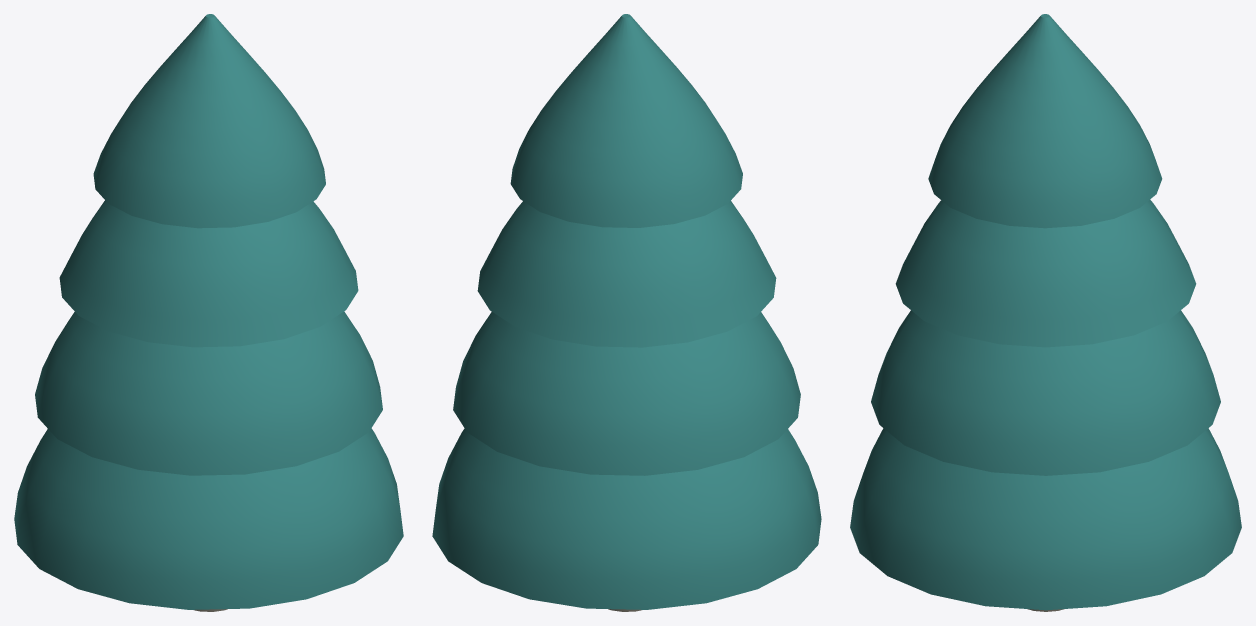
File: sapin_2.fbx
The picture shows the model from 3 angles, left to right: view 1: azimuth 30°, elevation 25°; view 2: azimuth 150°, elevation 25°; view 3: azimuth 270°, elevation 25°; orthographic projection.
Parts seen in each view (by area): view 1: Cone_3, Cone_2, Cone_4, Cone; view 2: Cone_3, Cone_2, Cone_4, Cone; view 3: Cone_3, Cone_2, Cone_4, Cone.
Boxes of the visible parts, x1,y1,x2,y2 form: Cone_3: [14, 428, 403, 609]; Cone_2: [35, 311, 382, 475]; Cone_4: [59, 200, 358, 347]; Cone: [93, 14, 325, 228]; Cone_3: [432, 428, 821, 609]; Cone_2: [453, 312, 800, 475]; Cone_4: [477, 201, 776, 347]; Cone: [510, 14, 742, 227]; Cone_3: [850, 428, 1241, 610]; Cone_2: [871, 310, 1220, 475]; Cone_4: [895, 199, 1196, 347]; Cone: [928, 14, 1162, 228].
Size of the model in its own units: 410 by 674 by 410.
